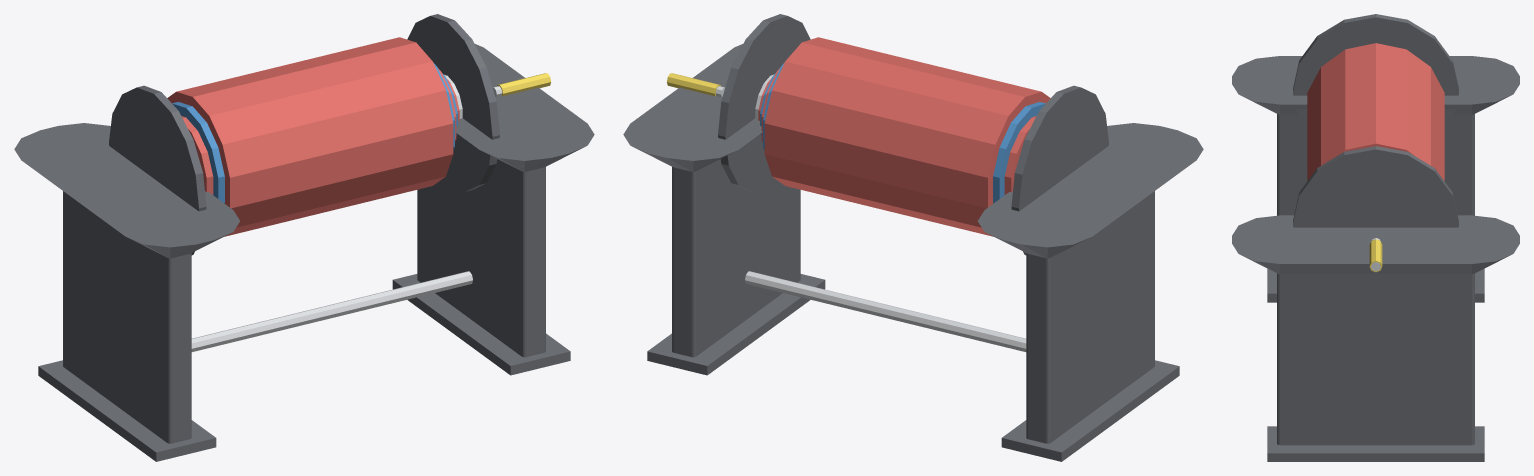
Rendered from public-swimming-baths-and-poolside-lane-rope-on-reel-0d6b9d23__35244.glb.
The picture shows the model from 3 angles, left to right: view 1: azimuth 30°, elevation 25°; view 2: azimuth 150°, elevation 25°; view 3: azimuth 270°, elevation 25°; orthographic projection. The views are drawn at different scales.
Visible parts, largest first — view 1: lane-rope-on-reel, rope-drum/red, rope-drum/frame, rope-drum/blue; view 2: lane-rope-on-reel, rope-drum/red, rope-drum/frame, rope-drum/blue; view 3: lane-rope-on-reel, rope-drum/frame, rope-drum/red.
Part boxes in pixels (<box>): lane-rope-on-reel: <box>14,44,594,461</box>; rope-drum/red: <box>167,37,459,236</box>; rope-drum/frame: <box>109,14,499,255</box>; rope-drum/blue: <box>172,62,457,203</box>; lane-rope-on-reel: <box>623,44,1203,461</box>; rope-drum/red: <box>758,37,1050,236</box>; rope-drum/frame: <box>718,14,1108,255</box>; rope-drum/blue: <box>760,62,1045,203</box>; lane-rope-on-reel: <box>1232,56,1519,461</box>; rope-drum/frame: <box>1293,14,1458,227</box>; rope-drum/red: <box>1307,43,1444,180</box>.
Size of the model in its own units: 1.58 by 0.99 by 0.9.
